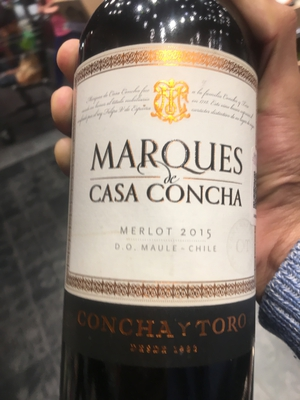marques de casa concha merlot: (53, 4, 271, 384)
